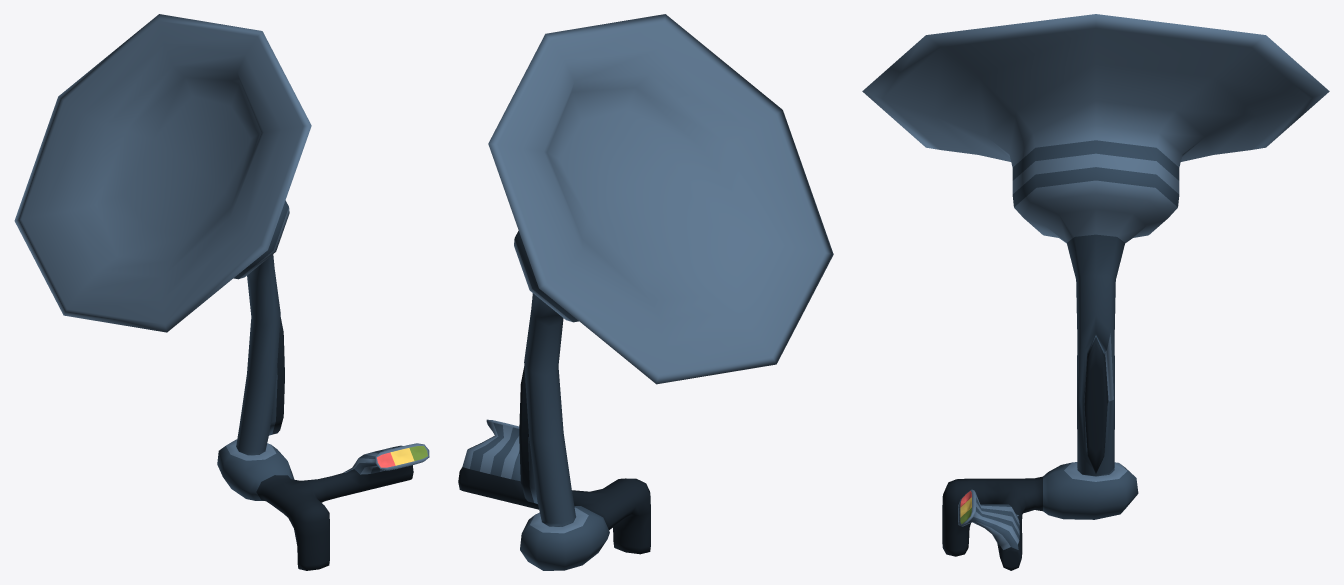
Rendered from Satellite.fbx.
3 views of the same model, side by side, from view 1: azimuth 30°, elevation 25°; view 2: azimuth 150°, elevation 25°; view 3: azimuth 270°, elevation 25° (orthographic). The views are drawn at different scales.
Visible parts, largest first — view 1: Cube; view 2: Cube; view 3: Cube.
Part boxes in pixels (box(x1,y1,x2,y2)): Cube: box(14, 14, 429, 570); Cube: box(458, 14, 833, 570); Cube: box(862, 14, 1329, 570).
Size of the model in its own units: 1436 by 2168 by 1697.
